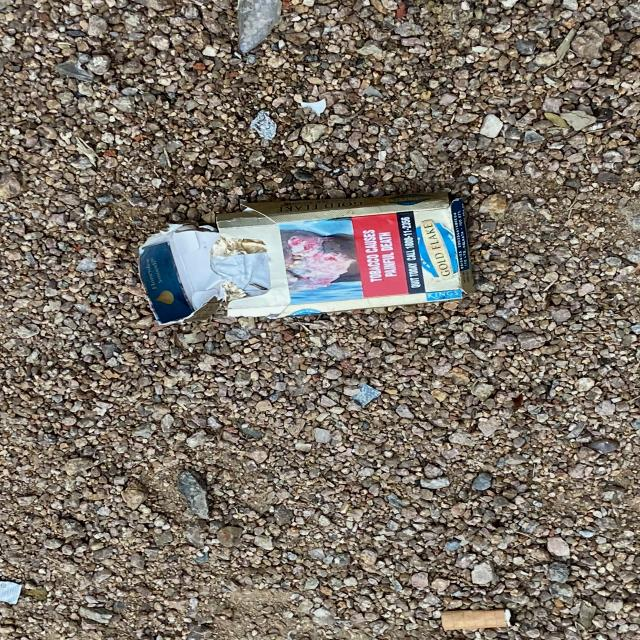ly_hop_giay: (139, 193, 475, 323)
